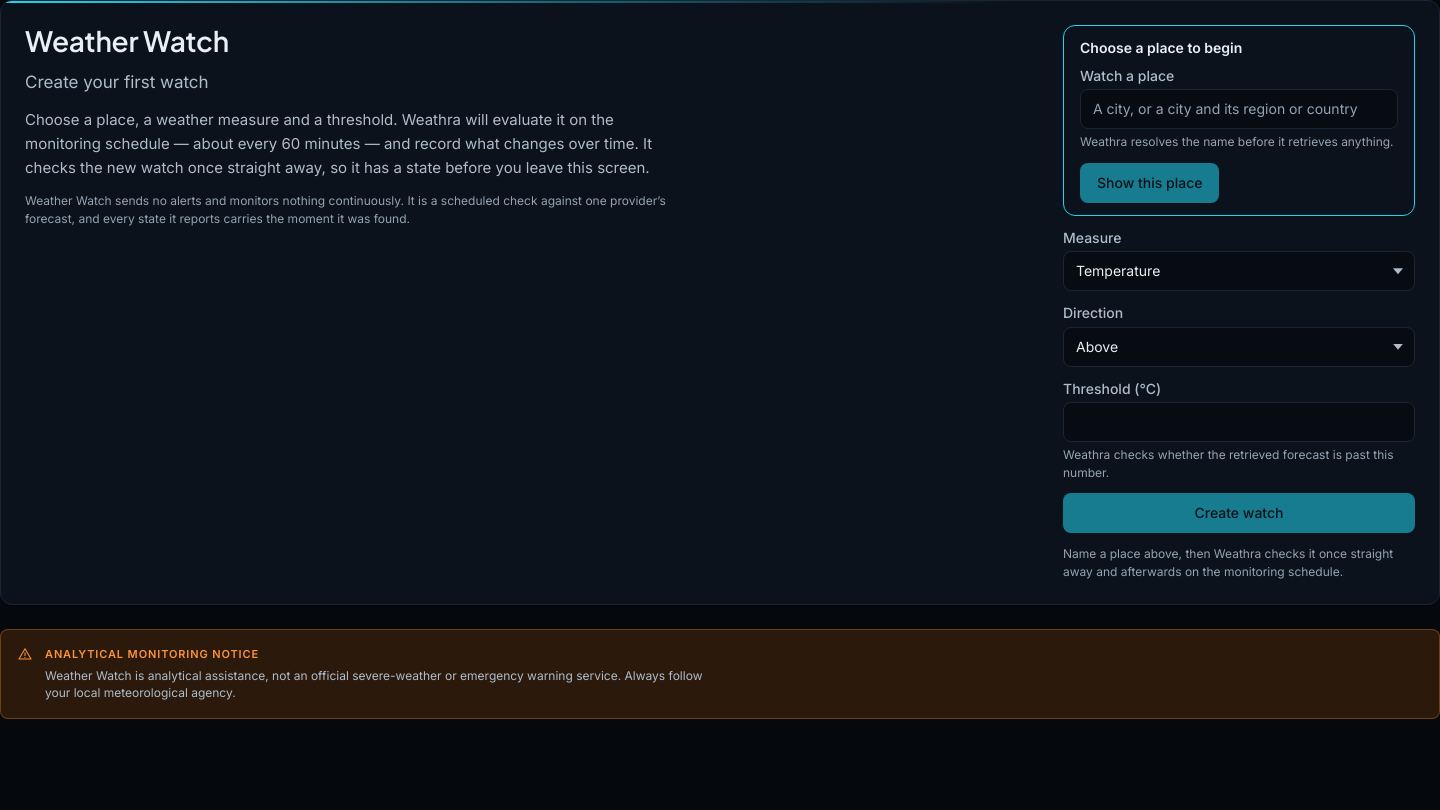
the first-watch place, from typing it and from the URL › keeps the resolved place after it is named, without asking for it twice
Expected: the text "Create your first watch" is shown, [25,72,209,92]
Type "London" into the field at (1239, 109), box [1080,89,1398,129]
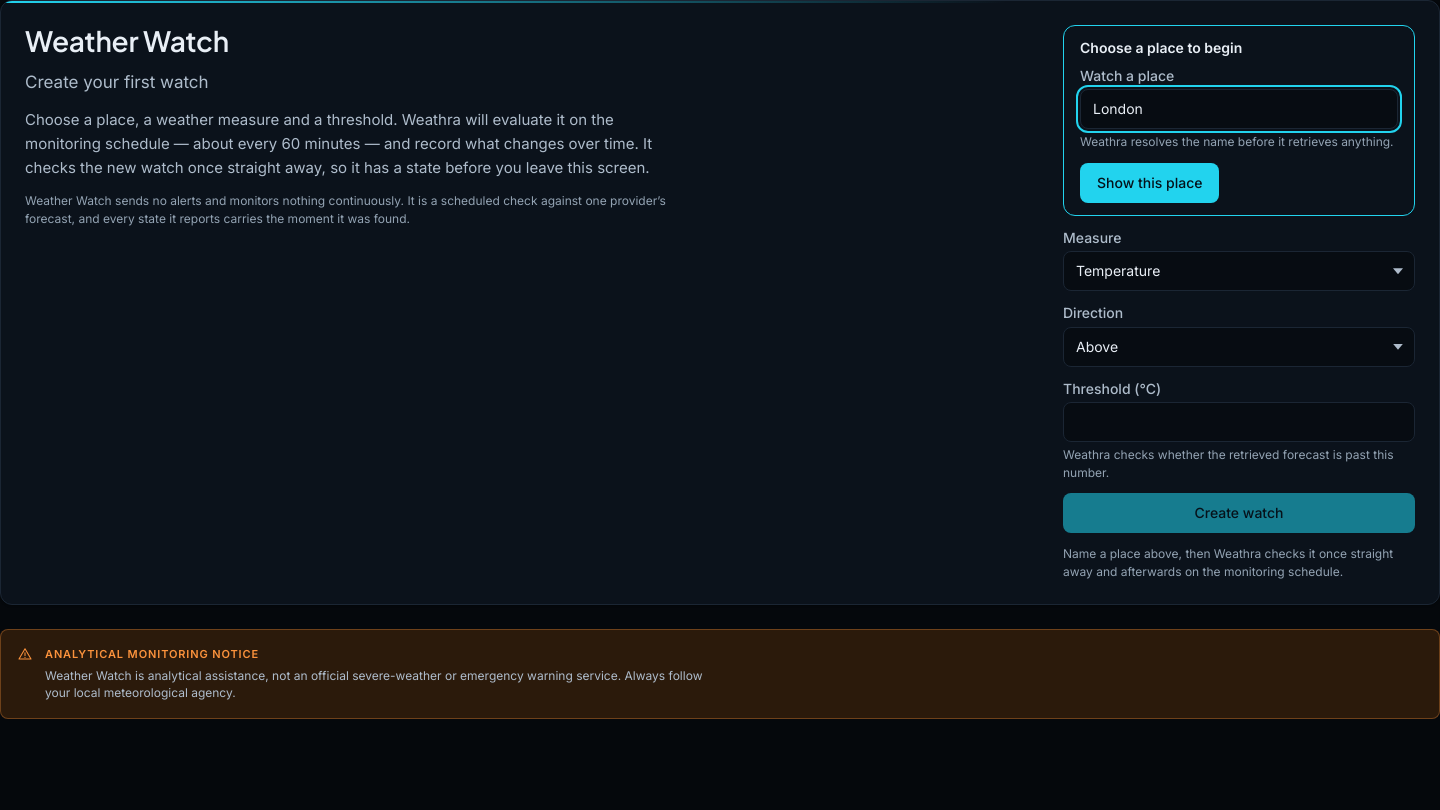
Click the button "Show this place" at (1150, 183), box [1080,163,1220,203]
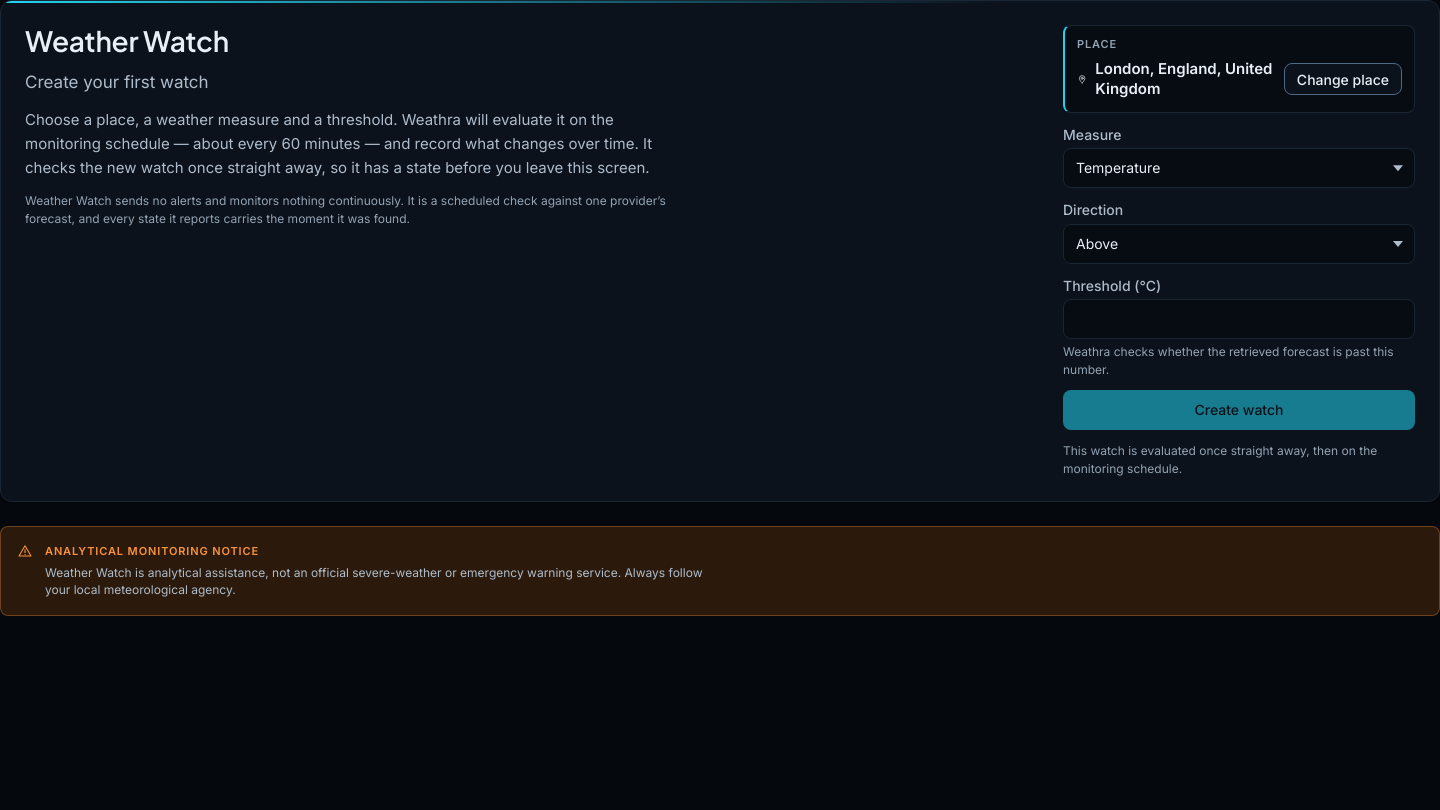
Result: the text "London, England, United Kingdom" is shown at [1077,59,1276,100]
Result: the field is gone
Result: the button "Change place" is shown at [1284,63,1402,95]
